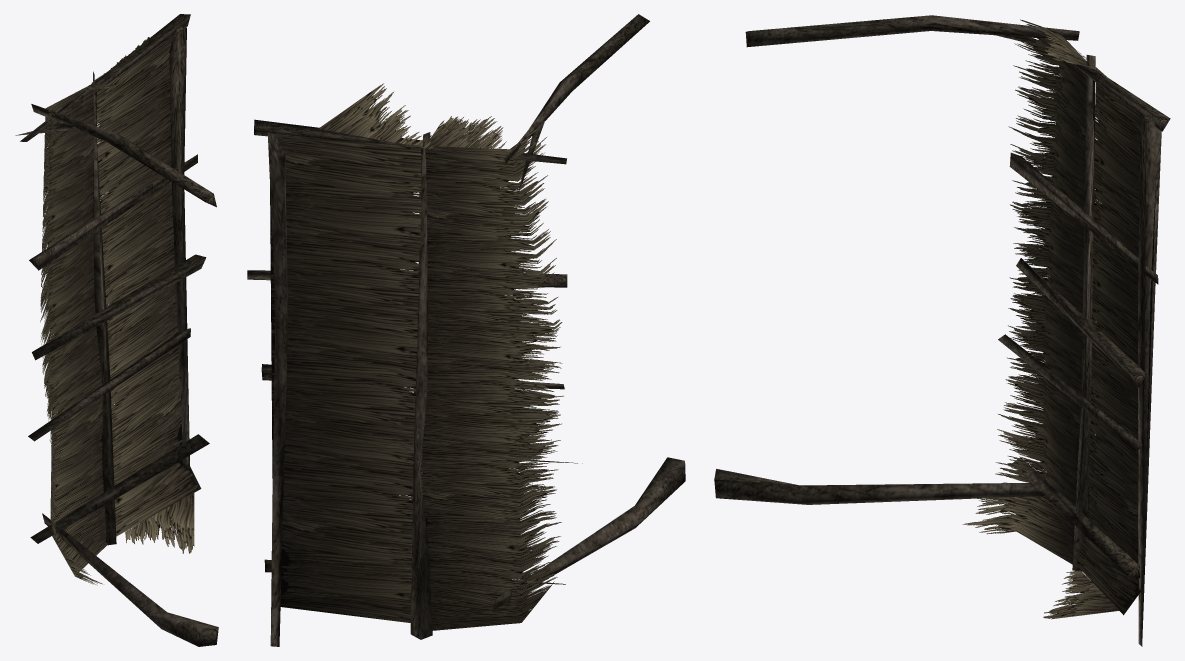
The model's file is MEP_Roof_01_LOD_01.fbx.
3 renders of one model, left to right at view 1: azimuth 30°, elevation 25°; view 2: azimuth 150°, elevation 25°; view 3: azimuth 270°, elevation 25°, orthographic. The views are drawn at different scales.
Visible parts, largest first — view 1: MEP_Roof_01_LOD_01; view 2: MEP_Roof_01_LOD_01; view 3: MEP_Roof_01_LOD_01.
Part boxes in pixels (x1=…): MEP_Roof_01_LOD_01: x1=15, y1=14, x2=218, y2=646; MEP_Roof_01_LOD_01: x1=247, y1=14, x2=685, y2=646; MEP_Roof_01_LOD_01: x1=714, y1=15, x2=1170, y2=646.
Size of the model in its own units: 2.65 by 5.46 by 4.02.
